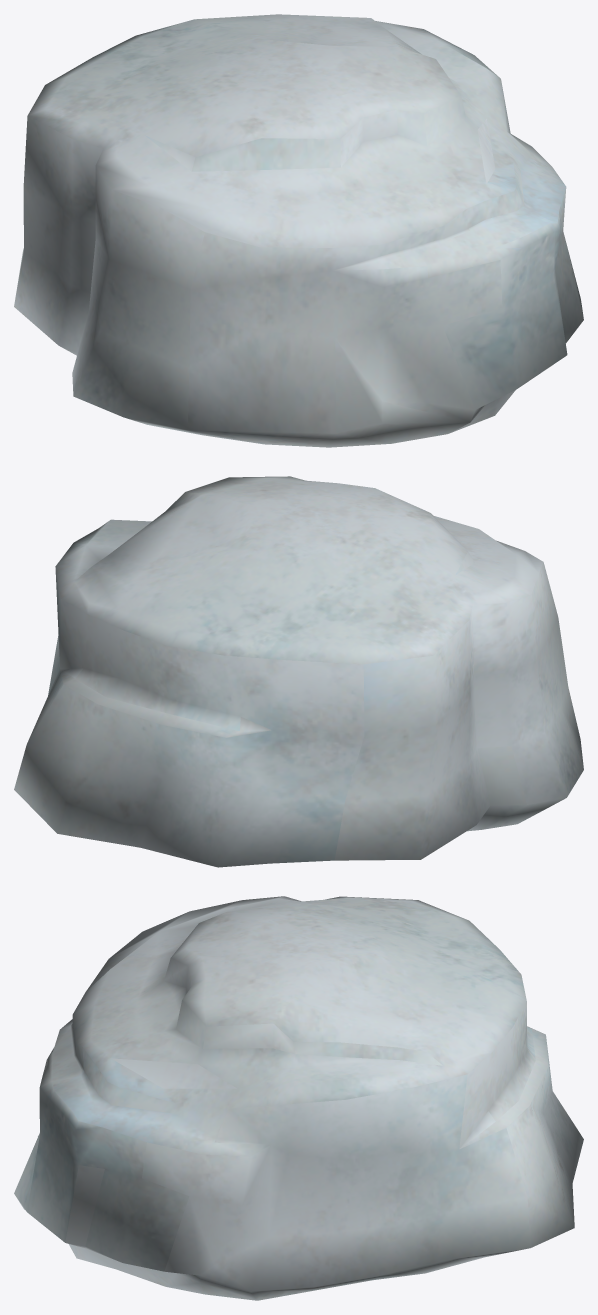
The model's file is P_RockDesert_Rock16.obj.
3 views of the same model, one above another, from view 1: azimuth 30°, elevation 25°; view 2: azimuth 150°, elevation 25°; view 3: azimuth 270°, elevation 25° (orthographic). The views are drawn at different scales.
Bounding box in the file's own units: 4.91 × 2.87 × 5.29.
